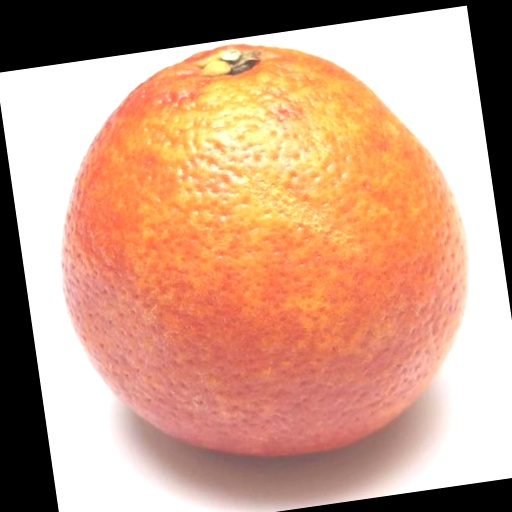fruit: (60, 45, 468, 455)
